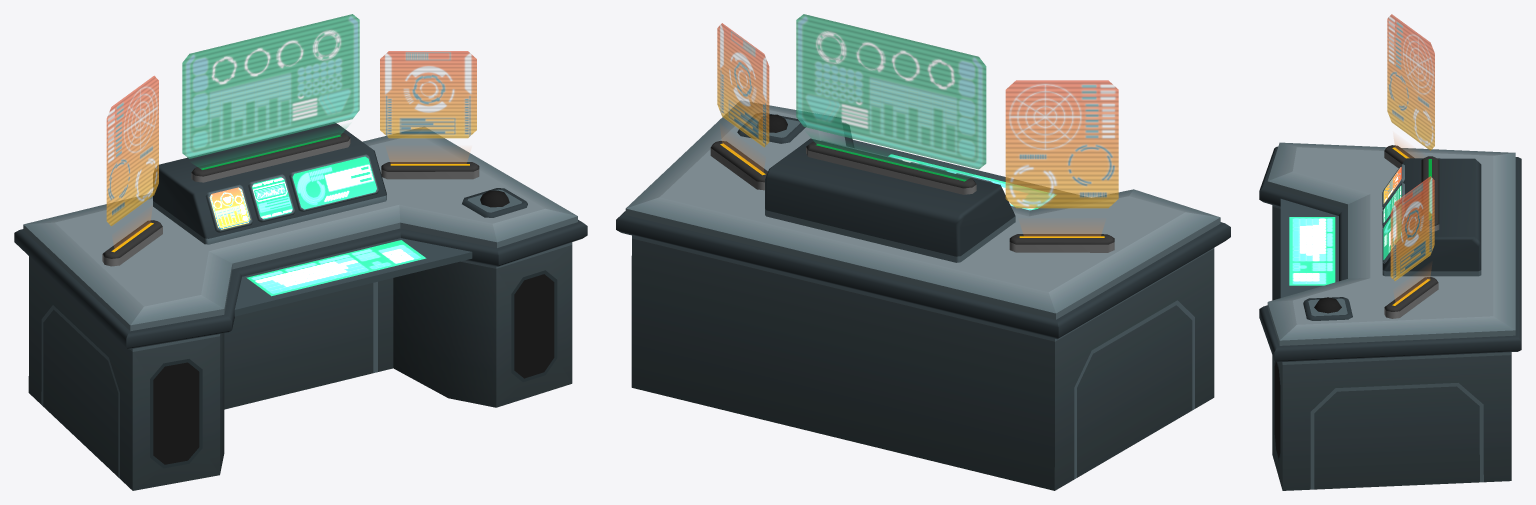
Rendered from Terminal_016.glb.
3 views of the same model, side by side, from view 1: azimuth 30°, elevation 25°; view 2: azimuth 150°, elevation 25°; view 3: azimuth 270°, elevation 25° (orthographic). The views are drawn at different scales.
Visible parts, largest first — view 1: Terminal_016; view 2: Terminal_016; view 3: Terminal_016.
Boxes of the visible parts, x1,y1,x2,y2 form: Terminal_016: [14, 14, 587, 490]; Terminal_016: [616, 14, 1230, 490]; Terminal_016: [1259, 14, 1521, 490].
Bounding box in the file's own units: 2.15 × 1.53 × 1.17.
6 materials, 5 textured.
